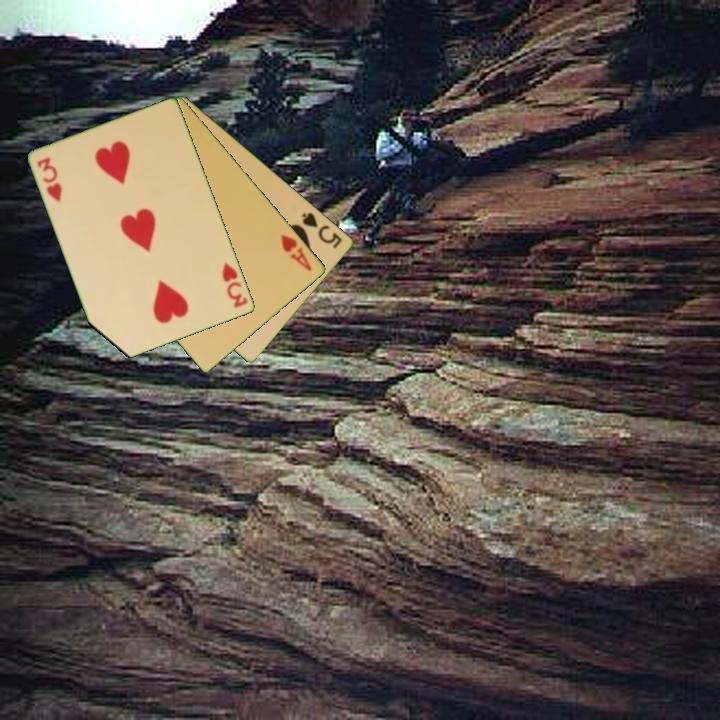3h: (219, 259, 251, 311), (34, 154, 65, 205)
5s: (299, 209, 345, 251)
Ah: (277, 230, 315, 274)
